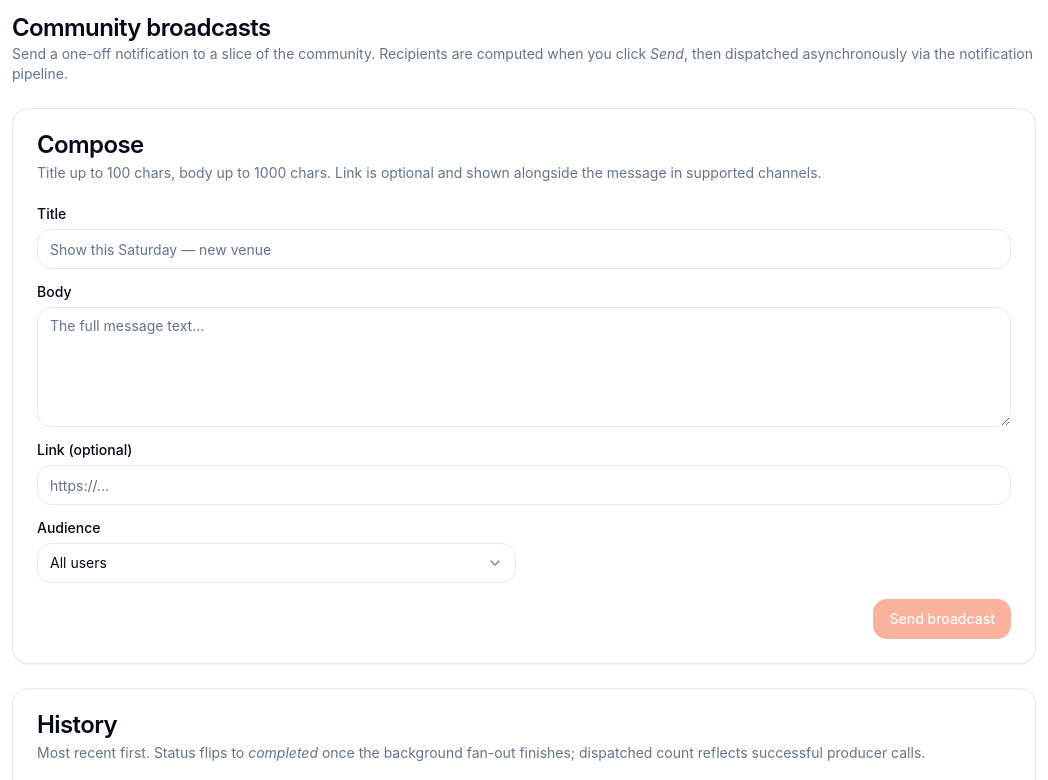
Test: AdminBroadcastsPage › disables Send when title or body is empty
Check: the button "Send broadcast" is disabled, box 874,599 -> 1011,639
Step 1. Type "Hello" into the field labelled "Title" → [524, 249], box 37,229 -> 1011,269
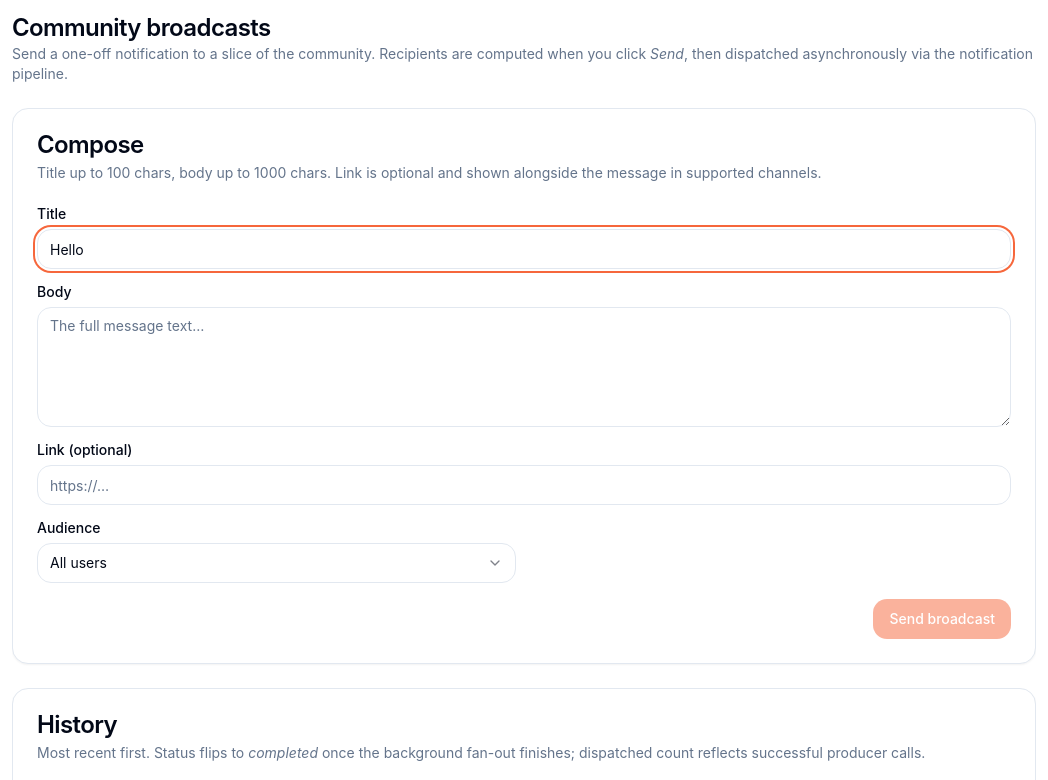
Check: the button "Send broadcast" is disabled, box 874,599 -> 1011,639
Step 2. Type "World" into the text box labelled "Body" → [524, 367], box 37,307 -> 1011,427
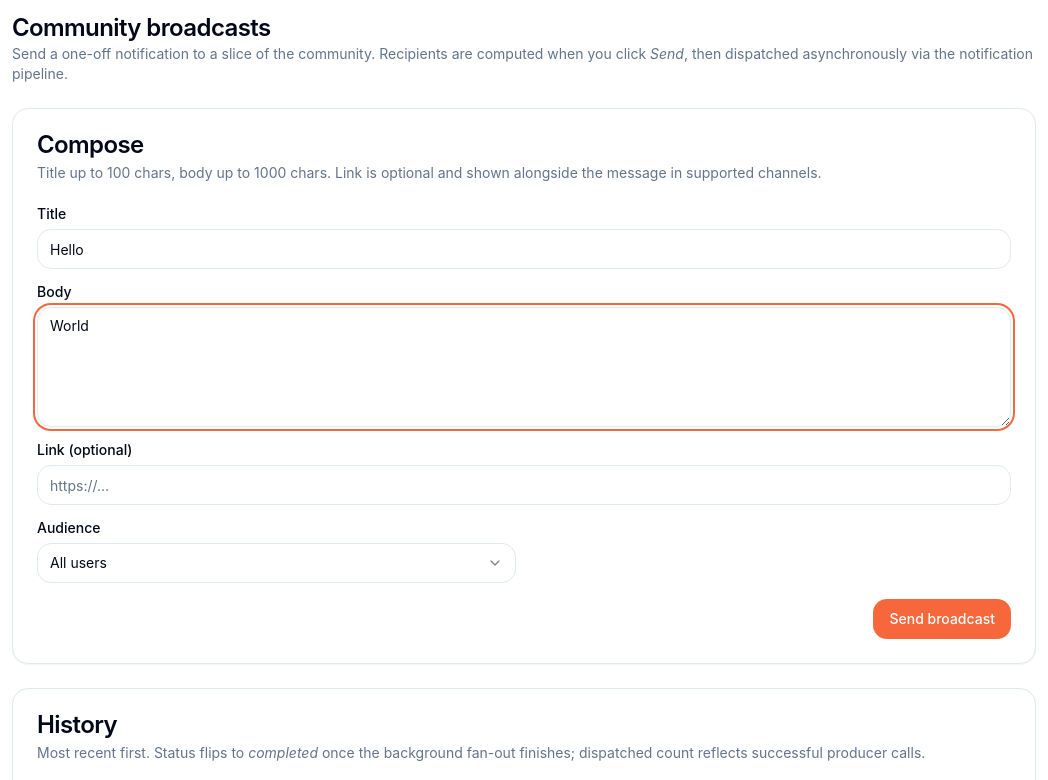
Check: the button "Send broadcast" is enabled, box 874,599 -> 1011,639
